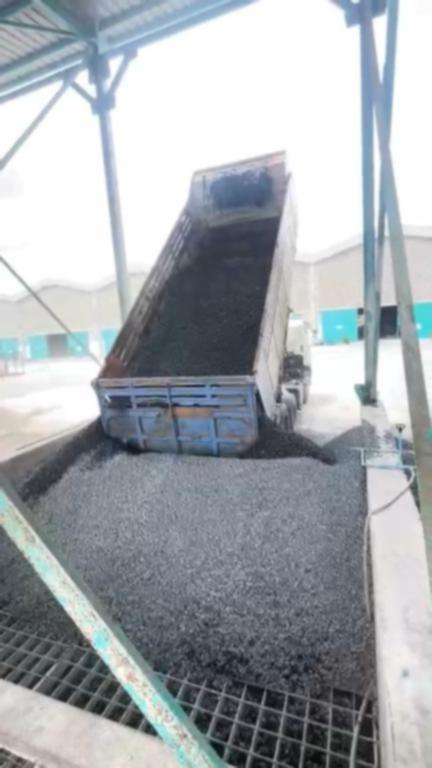gravel: (19, 411, 381, 702), (132, 222, 277, 374), (1, 532, 67, 633)
sand: (1, 405, 61, 457)
